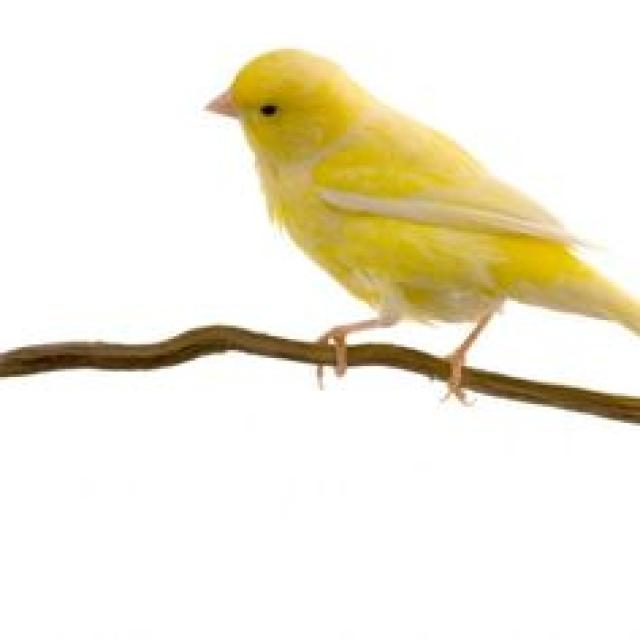Herbivorous: (206, 49, 640, 380)
